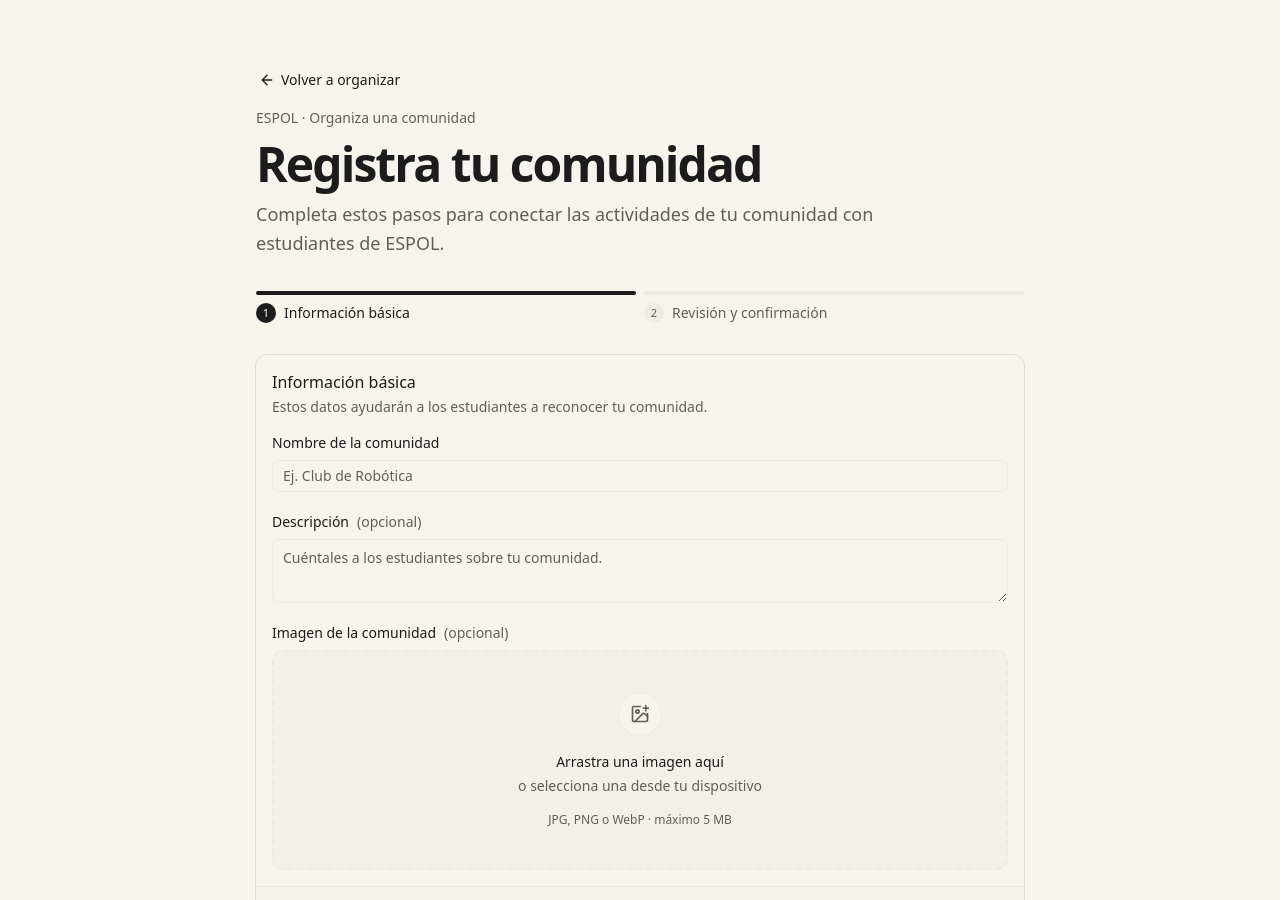
Test: community onboarding page › uses the second-step actions to edit or abandon the registration
This screenshot has width=1280, height=900.
In the field labelled "Nombre de la comunidad": (640, 476) [272,460,1008,492], type "Club de Robótica"
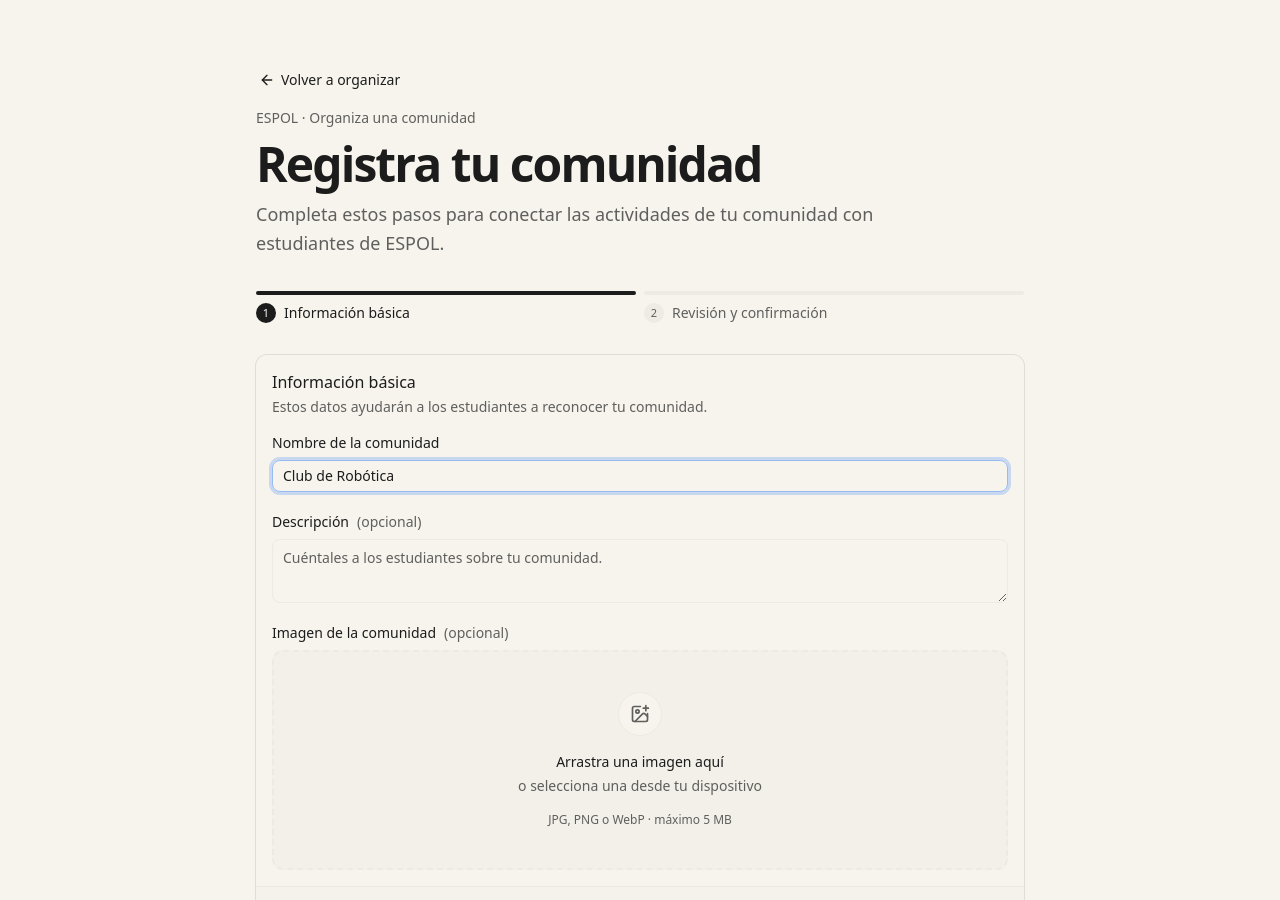
In the text box labelled "Descripción (opcional)": (640, 571) [272,539,1008,603], type "Comunidad de robótica de ESPOL."
(page scrolled)
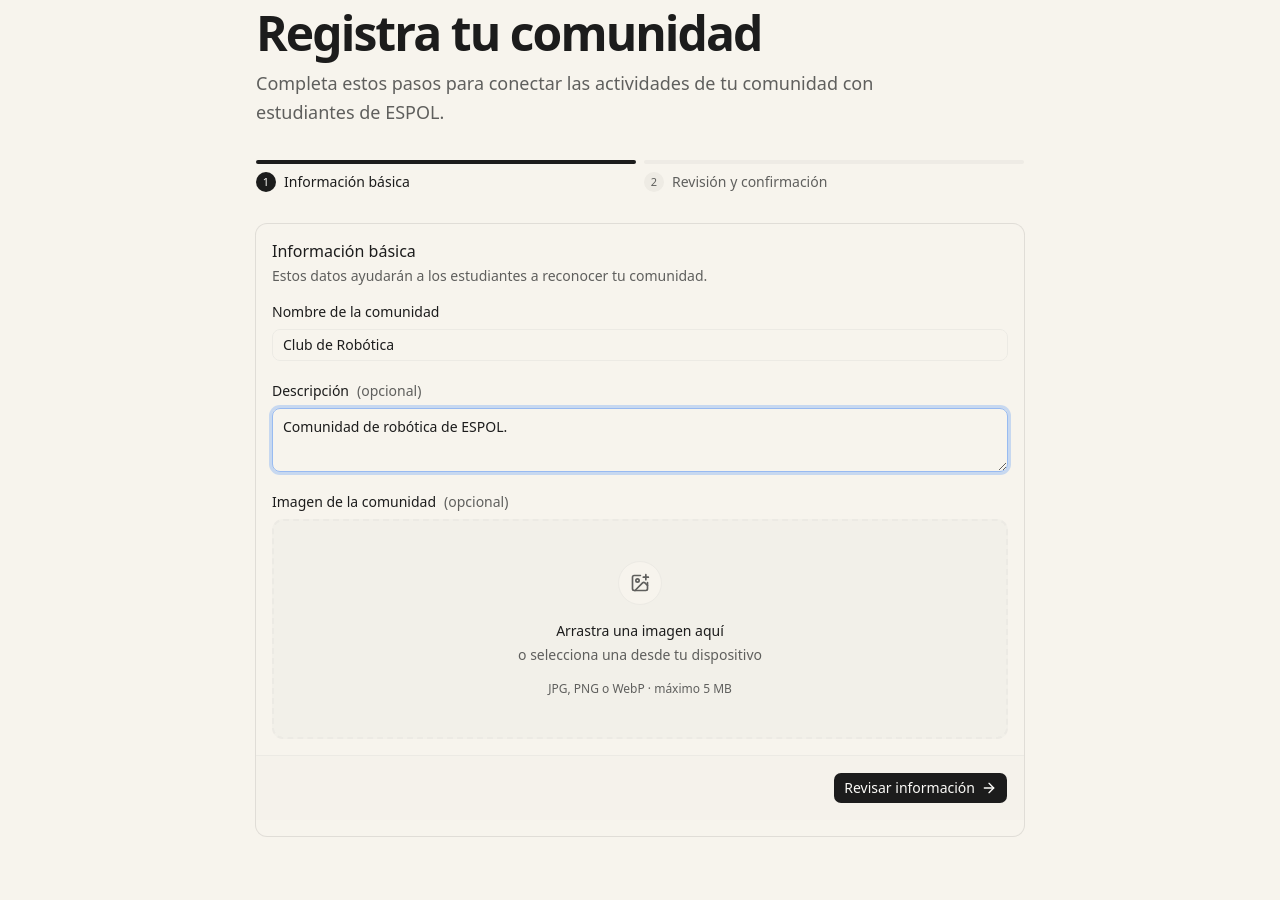
Click the button "Revisar información": (921, 788) [833,772,1008,804]
(page scrolled)
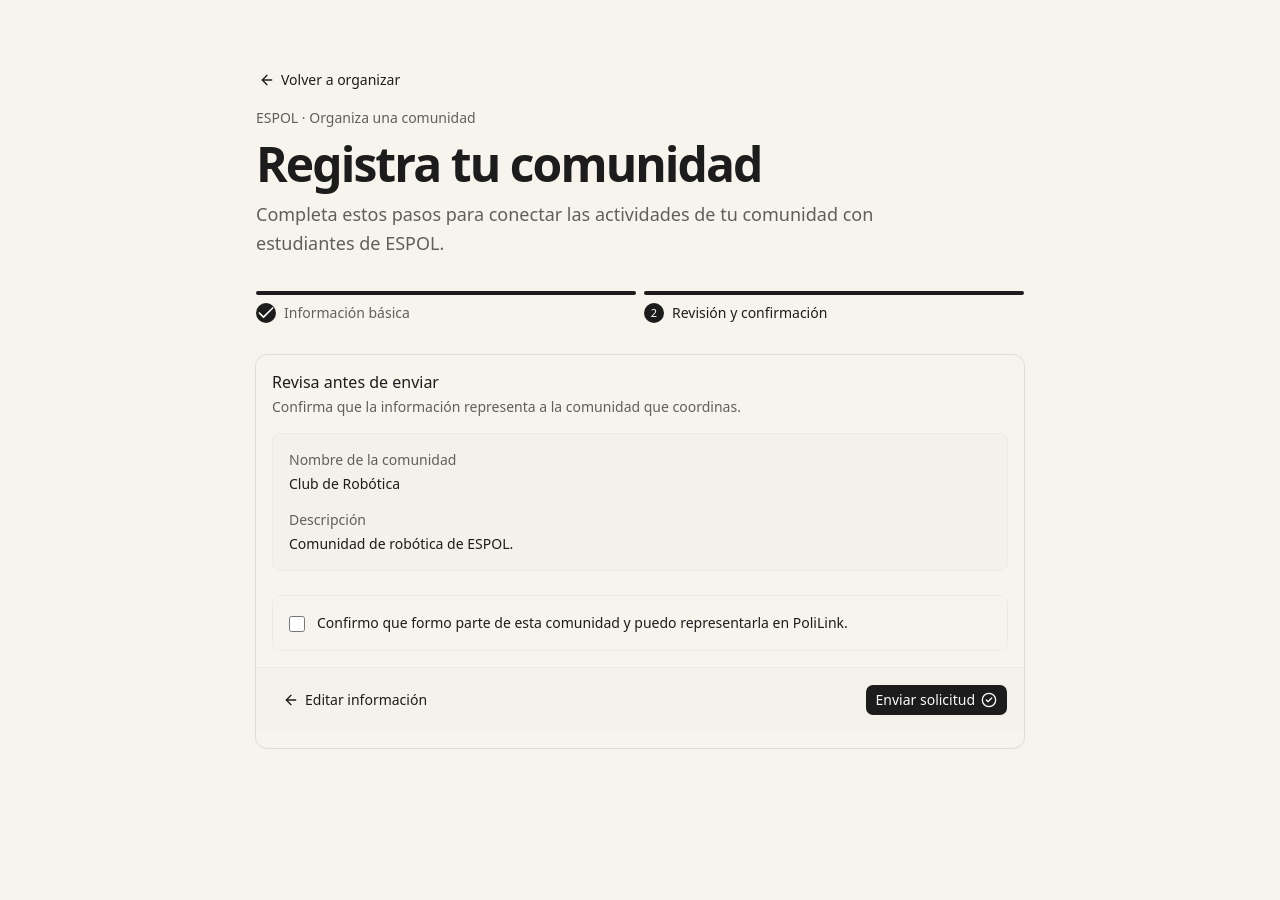
Click the button "Editar información": (355, 700) [272,684,438,716]
(page scrolled)
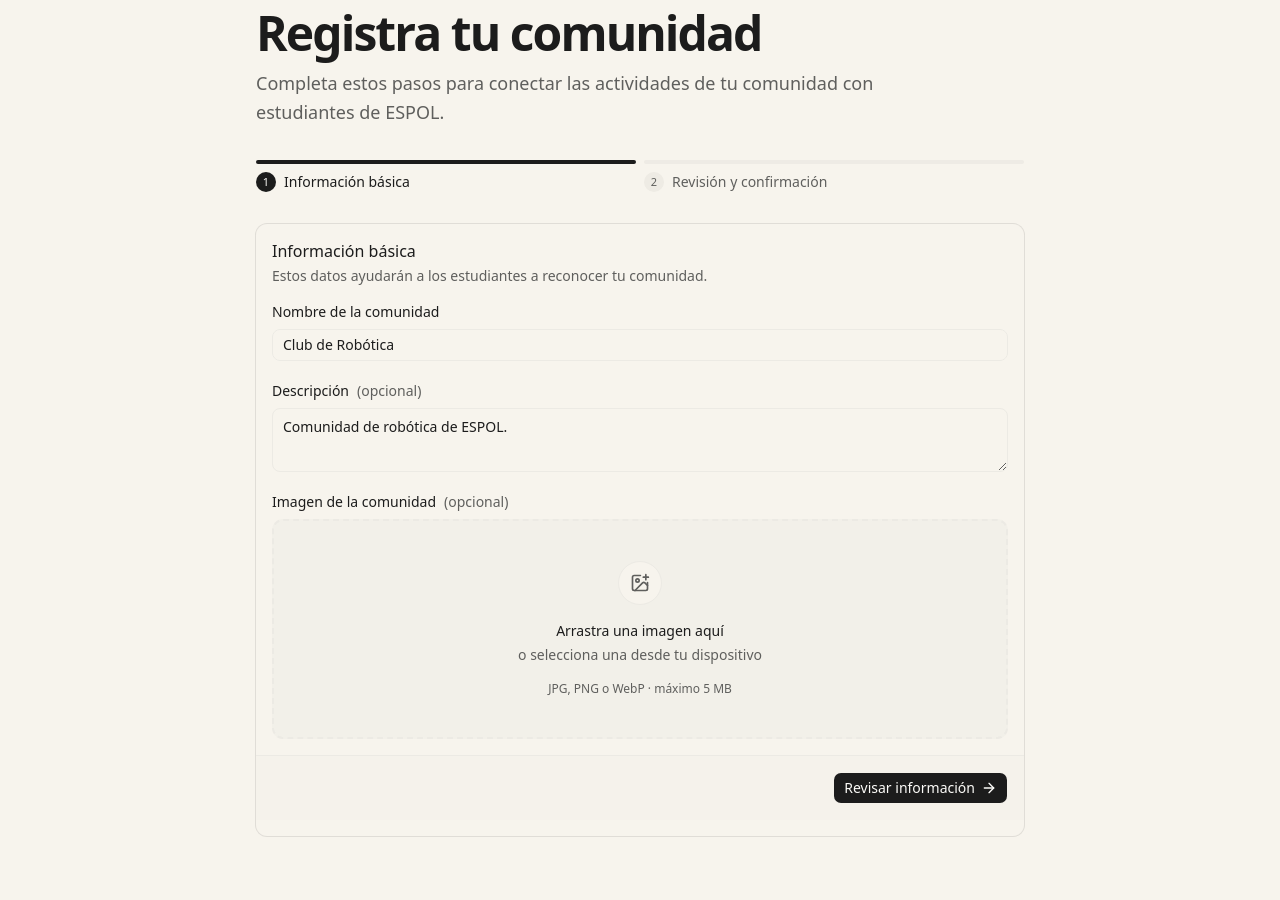
Check: the heading "Información básica" is shown, box [272,240,416,262]
Click the button "Revisar información": (921, 788) [833,772,1008,804]
(page scrolled)
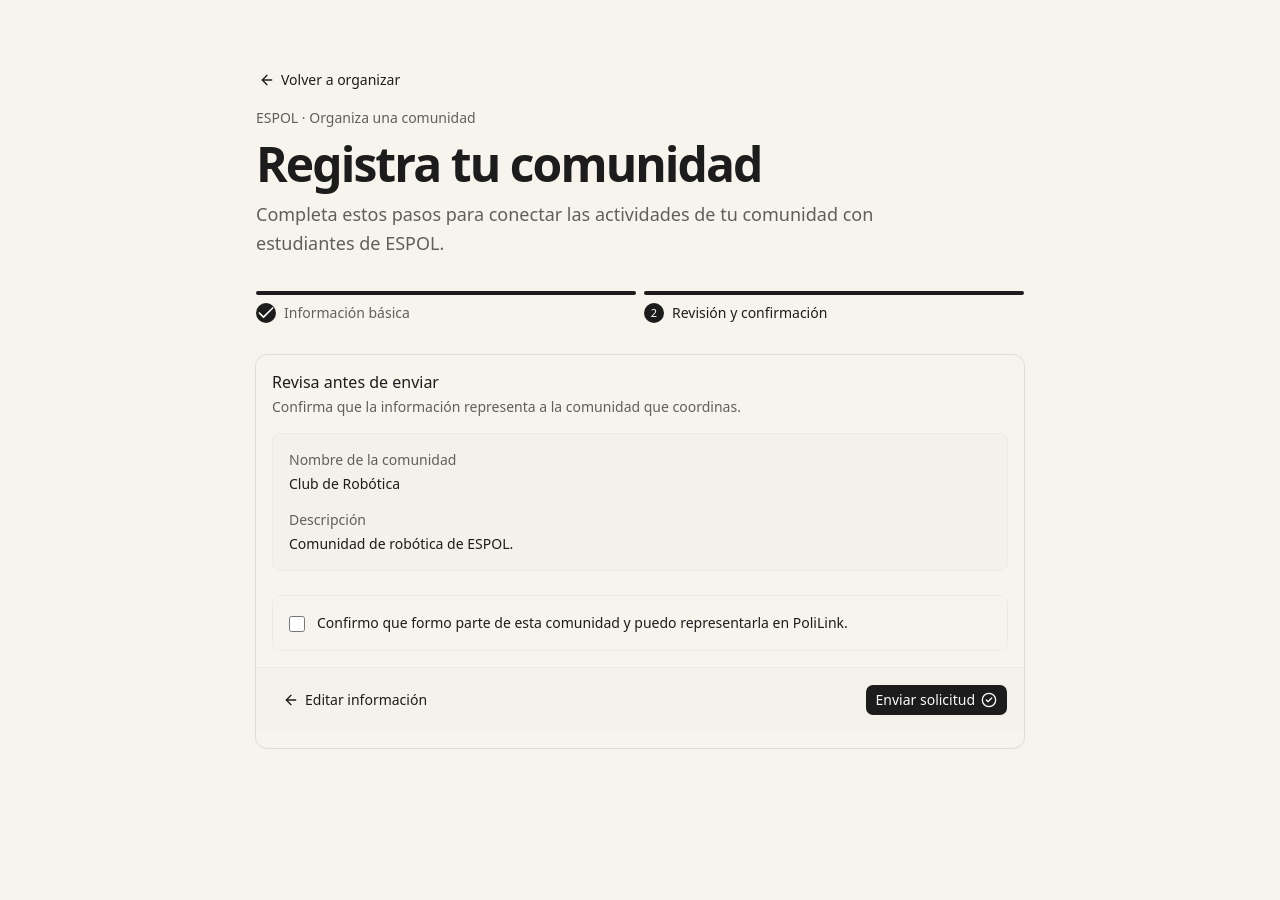
Click the button "Volver a organizar": (330, 80) [248,64,411,96]
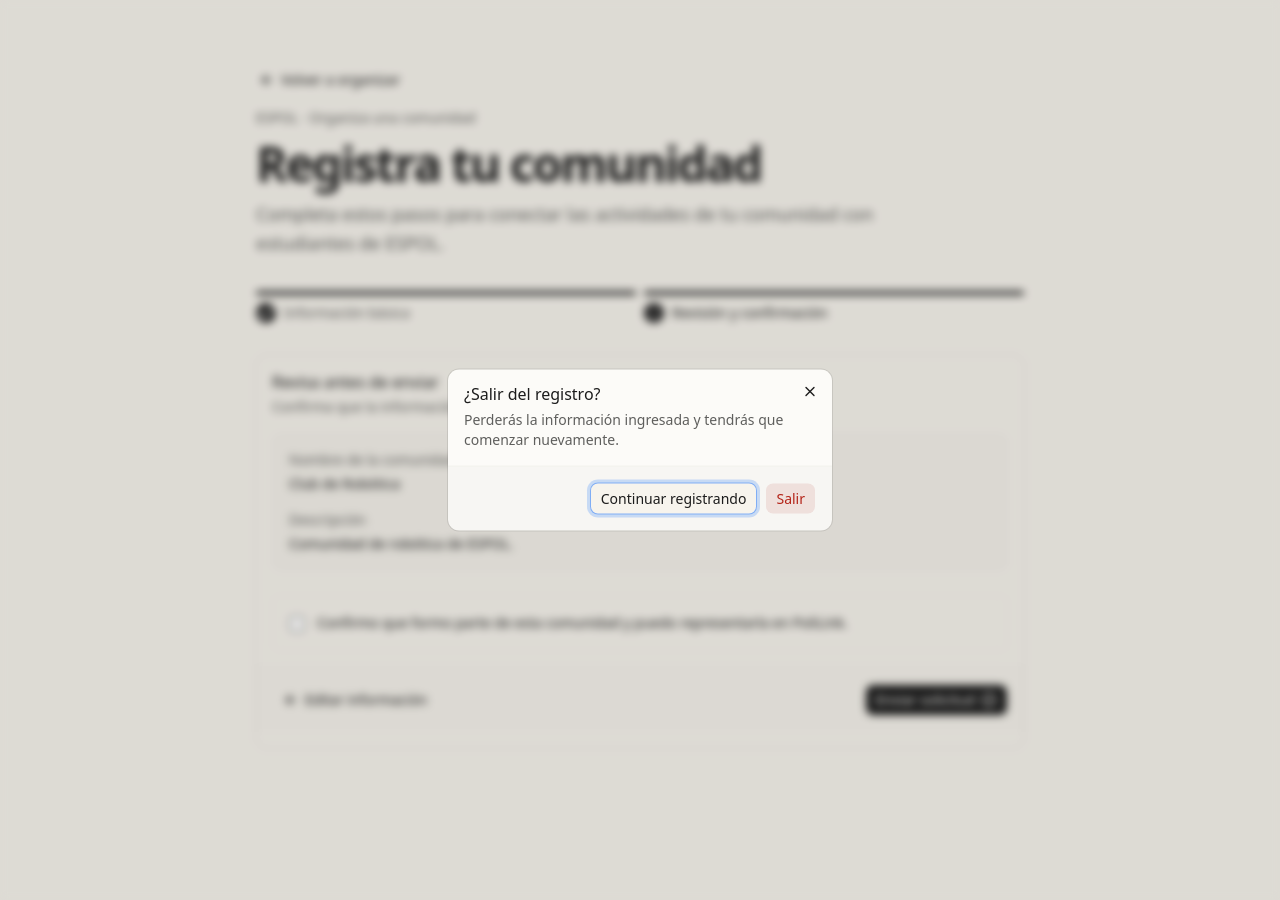
Check: the heading "¿Salir del registro?" is shown, box [464,382,600,404]
